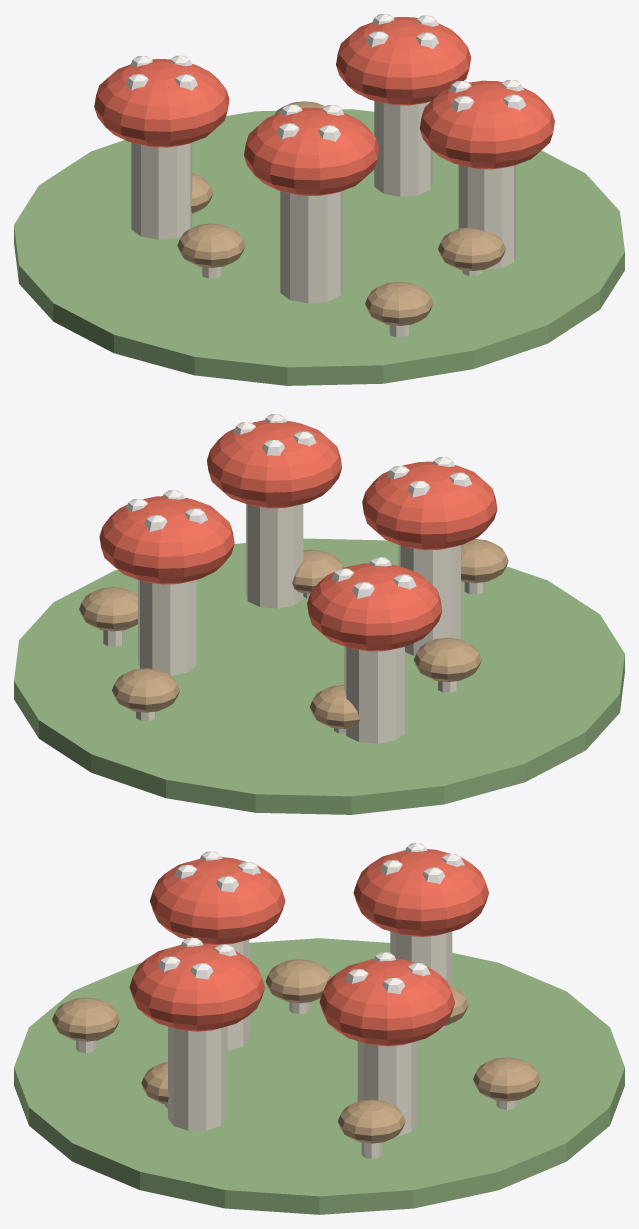
Rendered from mushroom_cluster.glb.
3 renders of one model, top to bottom at view 1: azimuth 30°, elevation 25°; view 2: azimuth 150°, elevation 25°; view 3: azimuth 270°, elevation 25°, orthographic.
Parts seen in each view (by area): view 1: mushroom_cluster; view 2: mushroom_cluster; view 3: mushroom_cluster.
Boxes of the visible parts, box(x1,y1,x2,y2) form: mushroom_cluster: box(14, 14, 624, 385); mushroom_cluster: box(14, 414, 624, 814); mushroom_cluster: box(14, 843, 624, 1214).
Size of the model in its own units: 0.9 by 0.3136 by 0.9.
